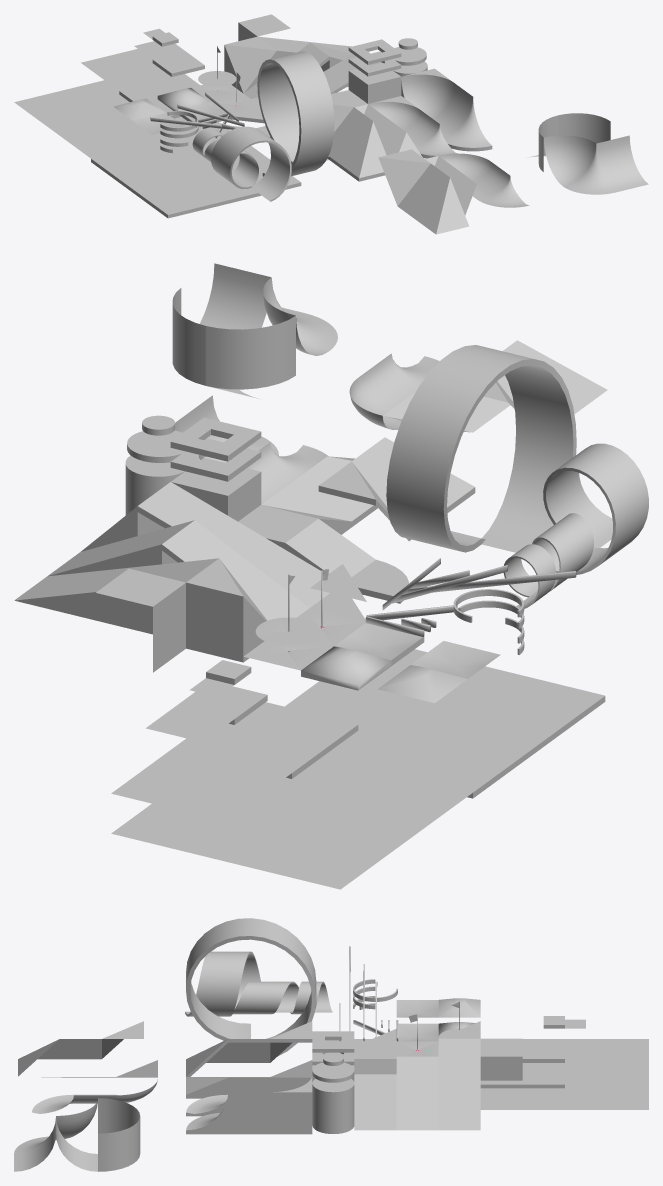
Rendered from all-tiles-v1.fbx.
The picture shows the model from 3 angles, top to bottom: view 1: azimuth 30°, elevation 25°; view 2: azimuth 150°, elevation 25°; view 3: azimuth 270°, elevation 25°; orthographic projection. The views are drawn at different scales.
Parts seen in each view (by area): view 1: tile-flat-x4, loop-large, tile-flat-top-x4, loop-medium, tile-flat-top-x2, tile-pipe-in-flat, tile-pipe-in, tile-pipe-flat, tile-ramp-corner-solid, tile-ramp-corner-out, tile-ramp-corner-in-flat, tile-ramp-corner-out-flat (+39 smaller); view 2: loop-large, tile-flat-top-x4, tile-flat-x4, loop-medium, tile-flat-top-x2, tile-flat-x2, tile-half-ramp-x3, tile-ramp-corner-solid, tile-half-ramp-x3-solid, tile-pipe-side-flat-out, tile-half-ramp-x2, tile-cube-flat (+35 smaller); view 3: loop-large, tile-flat-top-x4, tile-half-ramp-x3-solid, tile-half-ramp-x2-solid, loop-medium, tile-flat-top-x2, tile-ramp-solid, tile-circle-solid, tile-pipe-in, loop, tile-cube-flat, tile-pipe (+31 smaller).
Part boxes in pixels (left/top/right/bottom): tile-flat-x4: left=91, top=128, right=301, bottom=218; loop-large: left=257, top=51, right=334, bottom=176; tile-flat-top-x4: left=14, top=80, right=221, bottom=158; loop-medium: left=211, top=126, right=291, bottom=201; tile-flat-top-x2: left=81, top=49, right=185, bottom=90; tile-pipe-in-flat: left=544, top=135, right=596, bottom=186; tile-pipe-in: left=401, top=68, right=453, bottom=119; tile-pipe-flat: left=596, top=135, right=648, bottom=192; tile-ramp-corner-solid: left=224, top=36, right=276, bottom=93; tile-ramp-corner-out: left=340, top=121, right=386, bottom=181; tile-ramp-corner-in-flat: left=378, top=149, right=430, bottom=205; tile-ramp-corner-out-flat: left=417, top=178, right=469, bottom=234; loop-large: left=386, top=345, right=576, bottom=552; tile-flat-top-x4: left=111, top=756, right=472, bottom=889; tile-flat-x4: left=285, top=649, right=605, bottom=798; loop-medium: left=543, top=443, right=648, bottom=574; tile-flat-top-x2: left=111, top=745, right=291, bottom=821; tile-flat-x2: left=177, top=702, right=358, bottom=778; tile-half-ramp-x3: left=137, top=482, right=329, bottom=607; tile-ramp-corner-solid: left=186, top=558, right=267, bottom=662; tile-half-ramp-x3-solid: left=14, top=558, right=218, bottom=634; tile-pipe-side-flat-out: left=205, top=316, right=295, bottom=389; tile-half-ramp-x2: left=162, top=520, right=309, bottom=620; tile-cube-flat: left=96, top=568, right=185, bottom=672; loop-large: left=186, top=918, right=316, bottom=1056; tile-flat-top-x4: left=480, top=1039, right=648, bottom=1109; tile-half-ramp-x3-solid: left=438, top=1038, right=480, bottom=1130; tile-half-ramp-x2-solid: left=396, top=1056, right=438, bottom=1130; loop-medium: left=185, top=951, right=260, bottom=1016; tile-flat-top-x2: left=565, top=1049, right=648, bottom=1084; tile-ramp-solid: left=354, top=1074, right=396, bottom=1130; tile-circle-solid: left=312, top=1078, right=354, bottom=1133; tile-pipe-in: left=270, top=1076, right=312, bottom=1134; loop: left=233, top=981, right=298, bottom=1014; tile-cube-flat: left=480, top=1038, right=522, bottom=1080; tile-pipe: left=228, top=1092, right=270, bottom=1134.
Size of the model in its own units: 3100 by 1329 by 4527.
